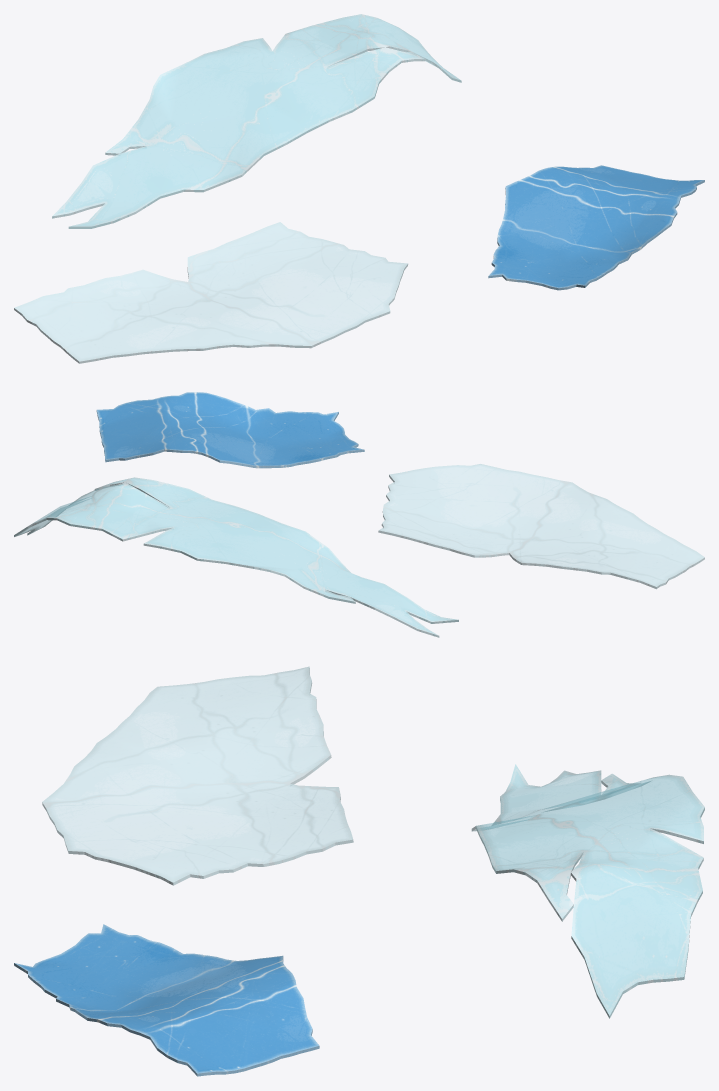
File: film.glb
3 views of the same model, one above another, from view 1: azimuth 30°, elevation 25°; view 2: azimuth 150°, elevation 25°; view 3: azimuth 270°, elevation 25° (orthographic). The views are drawn at different scales.
Parts seen in each view (by area): view 1: film; view 2: film; view 3: film.
Boxes of the visible parts, x1,y1,x2,y2 form: film: [14, 14, 704, 363]; film: [14, 392, 704, 637]; film: [14, 666, 704, 1076].
Size of the model in its own units: 0.356 by 0.0482 by 0.254.
3 materials, 3 textured.
